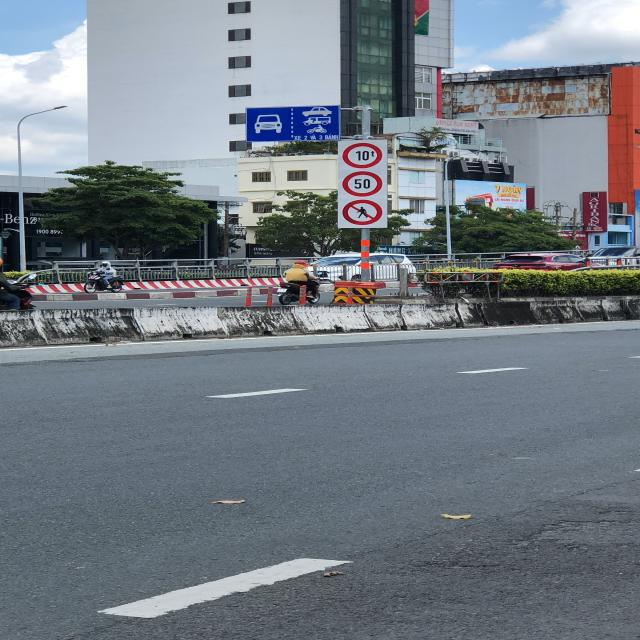Bien bao cam nguoi di bo: (339, 198, 387, 226)
Bien bao toc do toi da cho phep: (338, 170, 388, 198)
